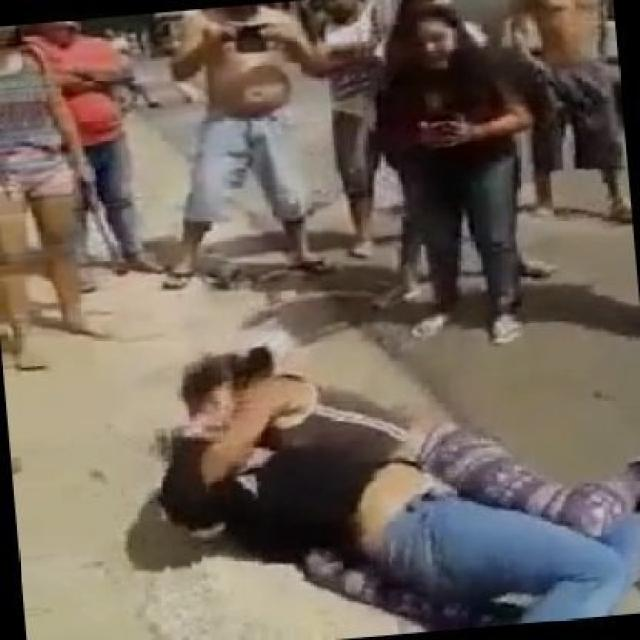fight: (150, 306, 638, 639)
non-fight: (336, 2, 558, 349), (141, 1, 354, 294), (0, 23, 120, 375)
